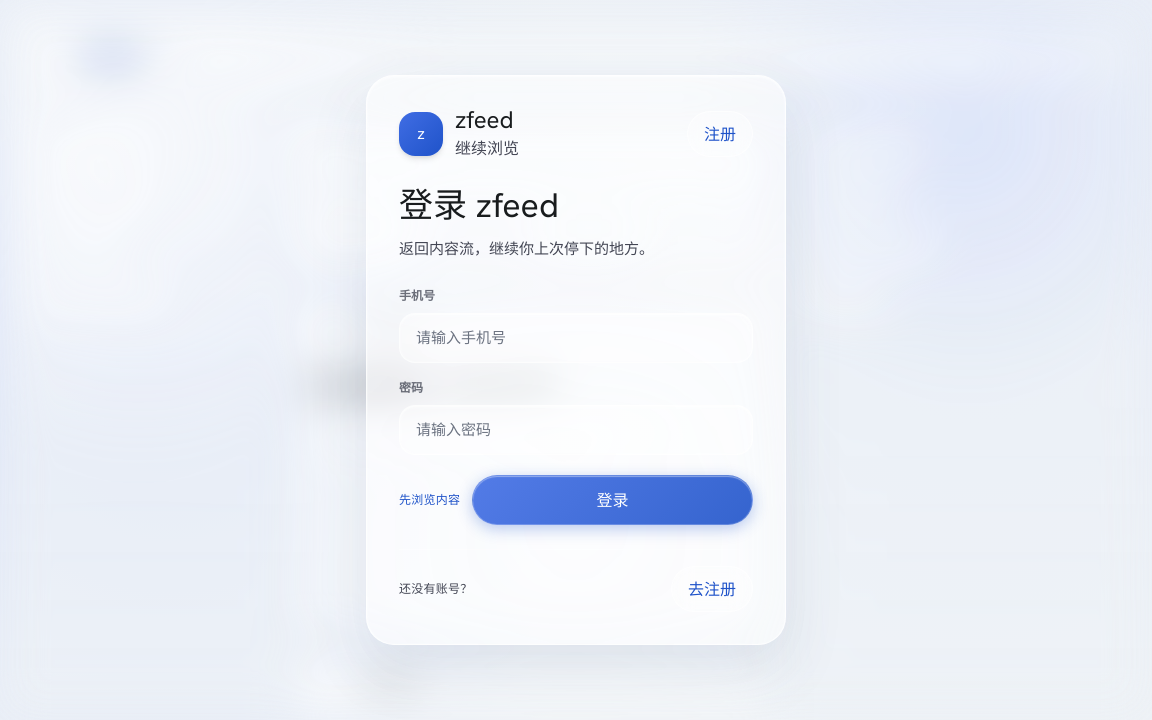
Test: App routes › validates login fields before submitting
Click the button "登录" at (613, 500), box [472, 475, 753, 525]
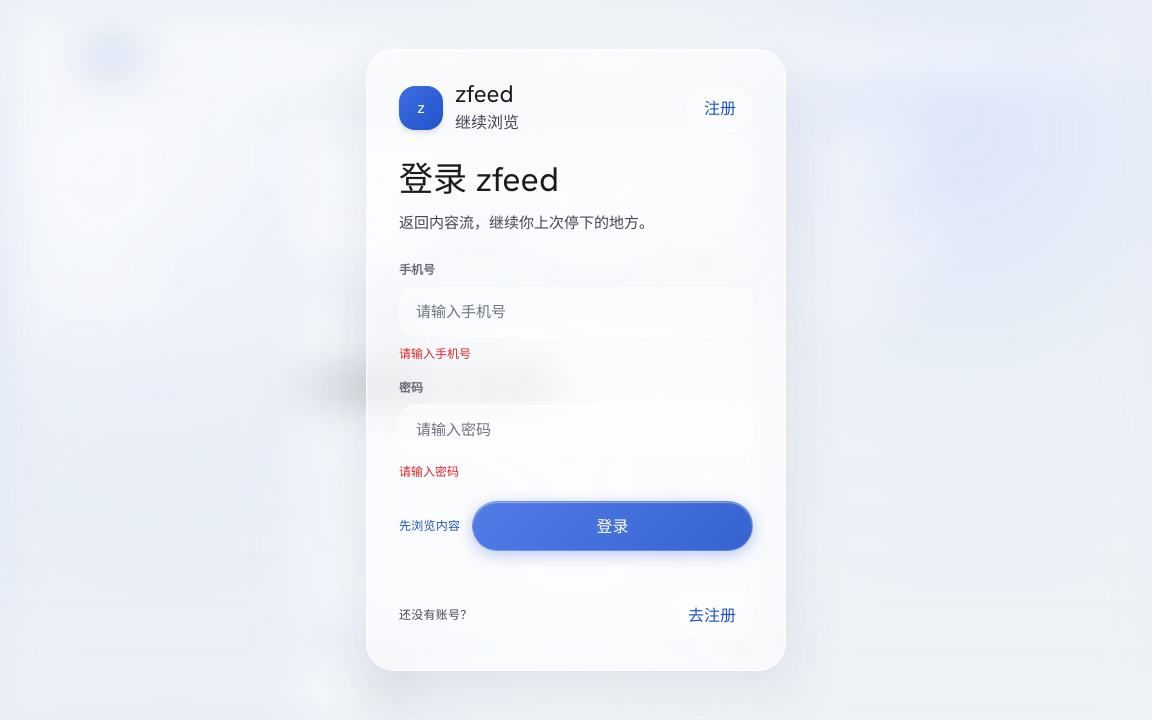
Now the text "请输入手机号" is shown, box [399, 346, 471, 362]
Now the text "请输入密码" is shown, box [399, 464, 459, 480]
